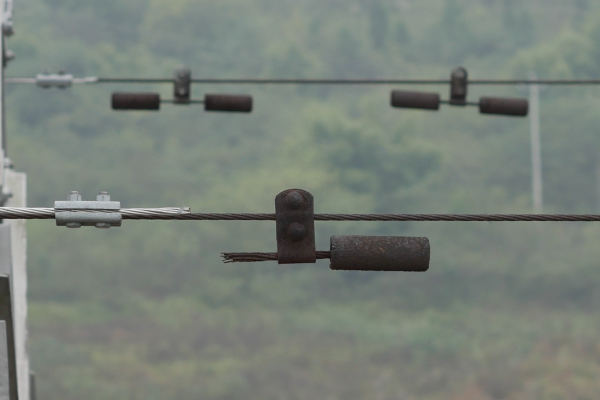damper: (386, 64, 532, 120), (108, 62, 255, 114)
damper_defect: (213, 185, 433, 275)
